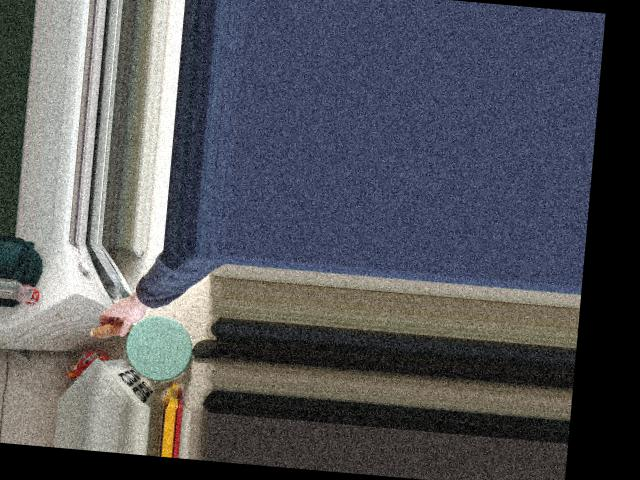sweet_potato: (90, 307, 144, 341)
